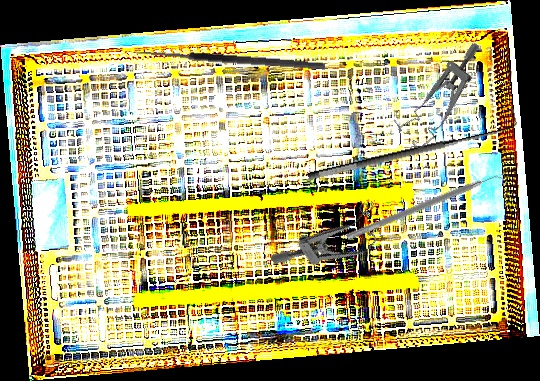Hook Surgical: (303, 107, 520, 183), (133, 48, 326, 80)
Spatula Surgical: (345, 169, 505, 248)
Speculum: (269, 191, 395, 300), (385, 40, 506, 153)
